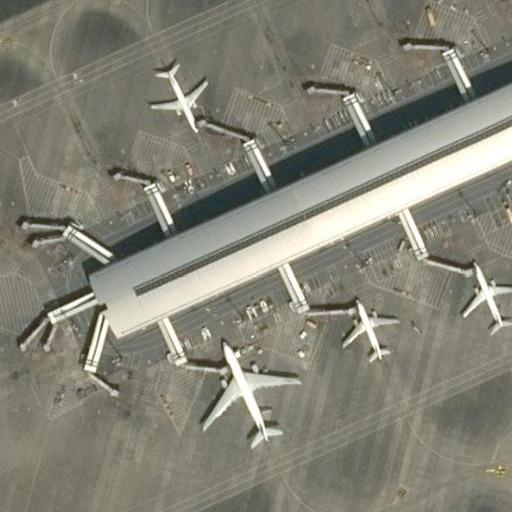Aircraft: (196, 338, 300, 446), (144, 60, 208, 133), (339, 297, 400, 362), (460, 260, 512, 336)
